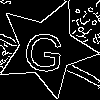G: (22, 23, 67, 73)
